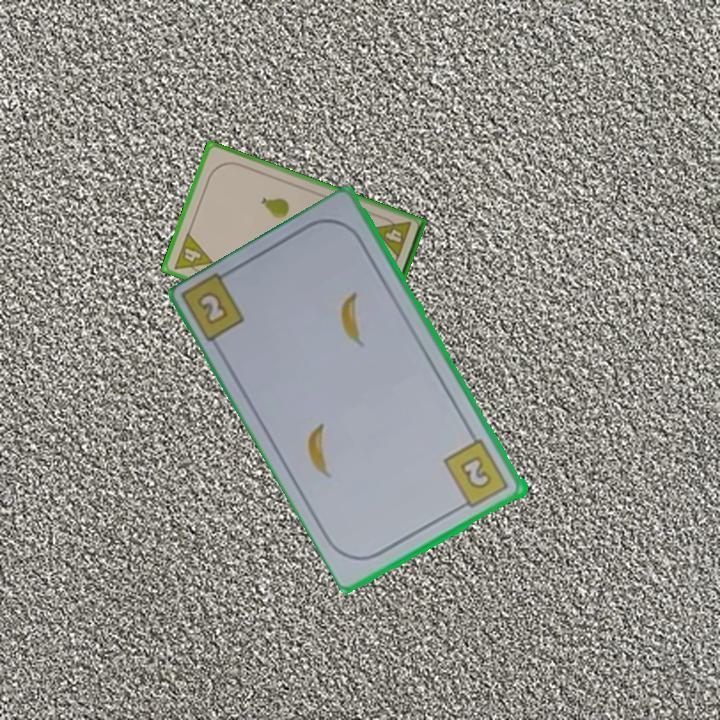2b: (440, 436, 513, 513), (194, 287, 232, 329)
4p: (170, 229, 215, 279), (370, 212, 414, 261)
